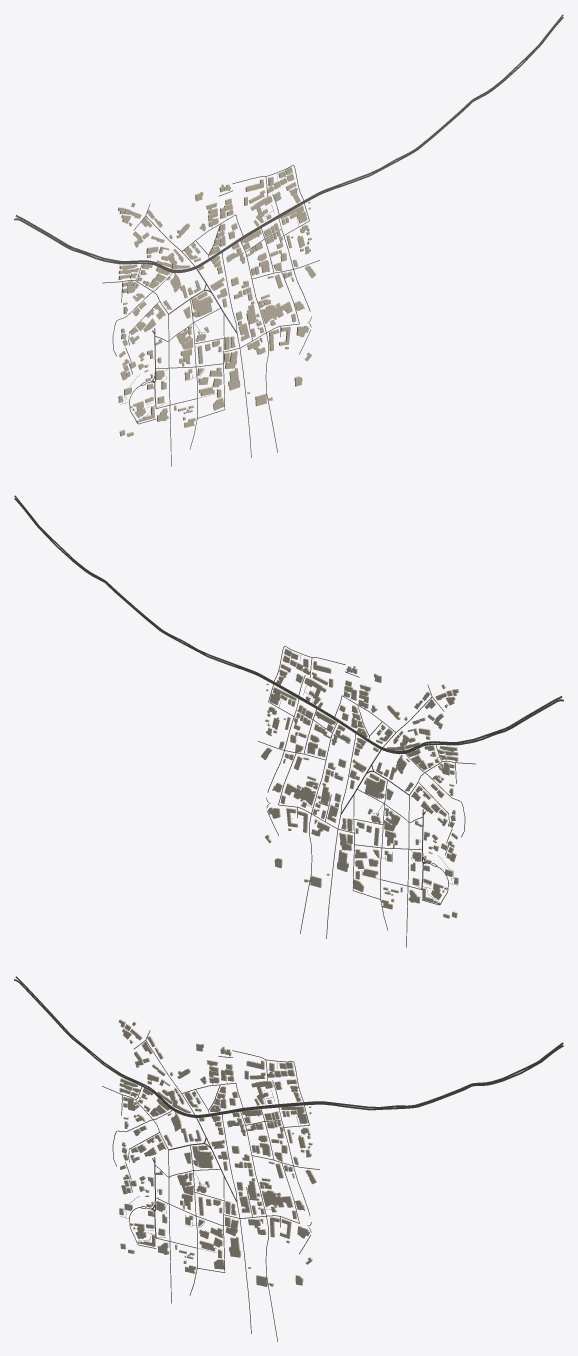
The model's file is historic-palestine-10_24_3518_3189.glb.
3 renders of one model, top to bottom at view 1: azimuth 30°, elevation 25°; view 2: azimuth 150°, elevation 25°; view 3: azimuth 330°, elevation 25°, orthographic.
Visible parts, largest first — view 1: Road شارع يافا.001, Road شارع يافا; view 2: Road شارع يافا, Road شارع يافا.001; view 3: Road شارع يافا.001, Road شارع يافا.
Boxes of the visible parts, bbox=[...] form: Road شارع يافا.001: bbox=[15, 14, 563, 271]; Road شارع يافا: bbox=[14, 17, 563, 273]; Road شارع يافا: bbox=[14, 498, 563, 754]; Road شارع يافا.001: bbox=[14, 495, 562, 752]; Road شارع يافا.001: bbox=[15, 976, 563, 1116]; Road شارع يافا: bbox=[14, 979, 563, 1117].
Size of the model in its own units: 2746 by 1761 by 10.89.
